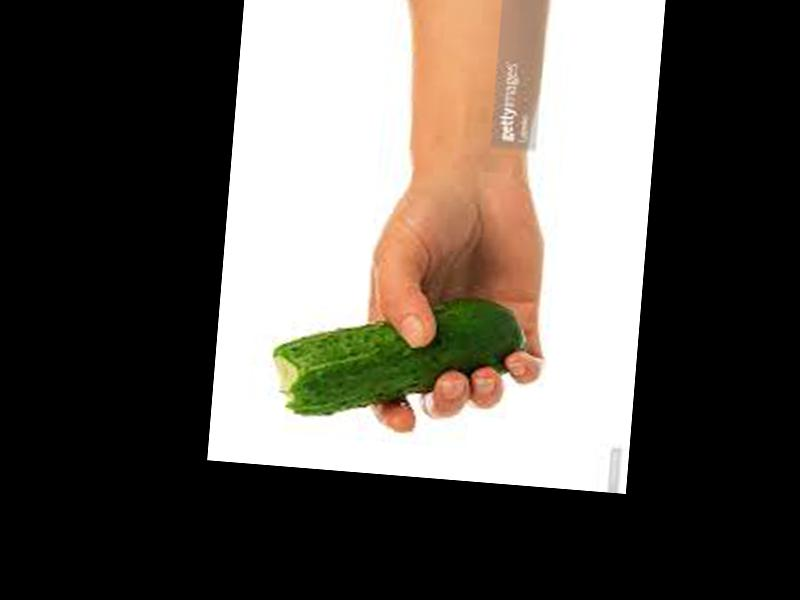Cucumber: (269, 283, 526, 431)
